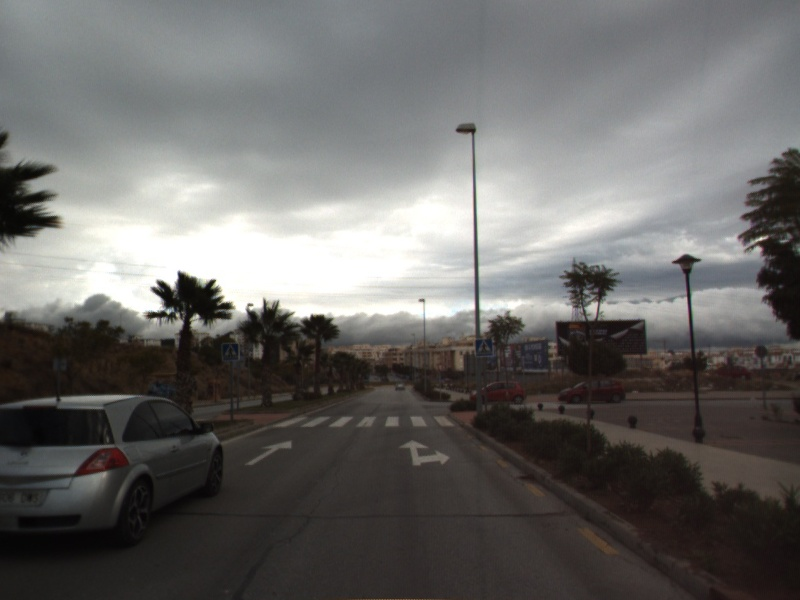STRAIGHT: (243, 438, 294, 467)
STRAIGHT_RIGHT: (397, 438, 452, 467)
